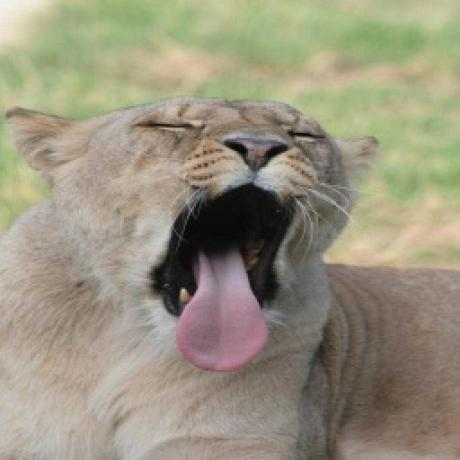Lion: (0, 88, 460, 460)
